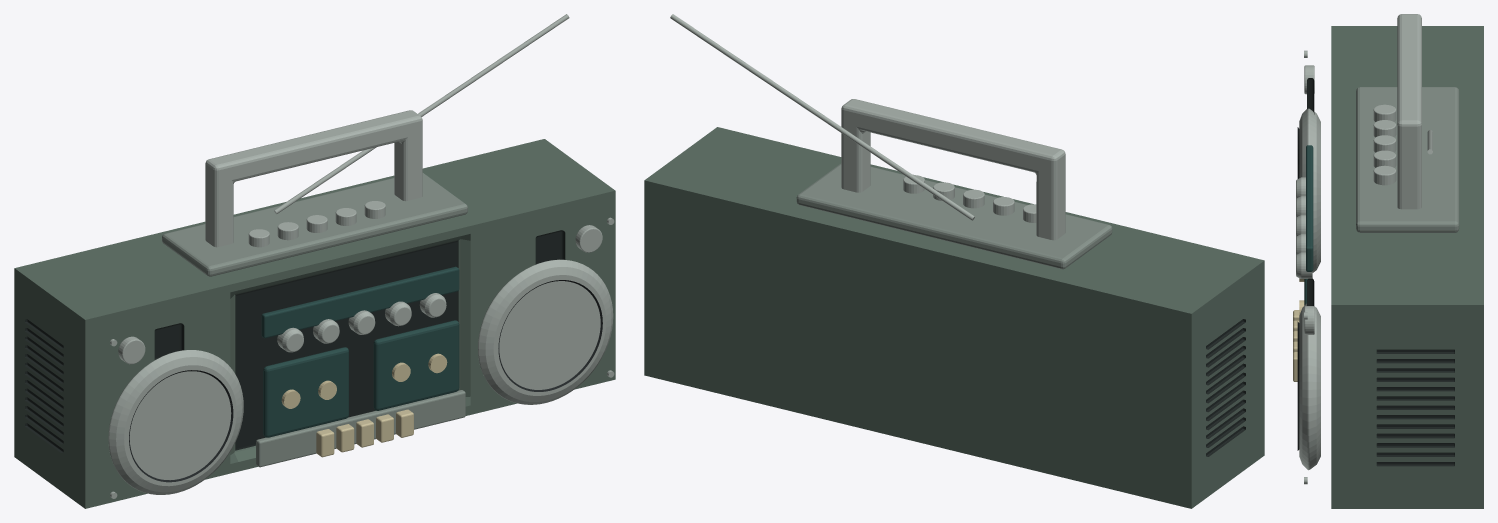
The model's file is heldout_boombox.glb.
3 renders of one model, left to right at view 1: azimuth 30°, elevation 25°; view 2: azimuth 150°, elevation 25°; view 3: azimuth 270°, elevation 25°, orthographic. The views are drawn at different scales.
Parts seen in each view (by area): view 1: Main integrated chassis, Speaker rim R, Speaker rim L, Top inset, Connected carry handle, Cassette right, Cassette left, Tuner display, Lower control rail, Side vent array L, Telescoping antenna, Meter grille L (+3 smaller); view 2: Main integrated chassis, Top inset, Connected carry handle, Side vent array L, Telescoping antenna; view 3: Main integrated chassis, Top inset, Side vent array R, Connected carry handle, Speaker rim R, Speaker rim L, Tuner display, Top dial 5, Speaker cone R, Top dial 2, Top dial 3, Top dial 4 (+4 smaller).
Boxes of the visible parts, <box> form: Main integrated chassis: <box>14,139,615,508</box>; Speaker rim R: <box>478,259,613,404</box>; Speaker rim L: <box>108,350,243,494</box>; Top inset: <box>162,173,467,276</box>; Connected carry handle: <box>205,110,422,247</box>; Cassette right: <box>373,320,459,410</box>; Cassette left: <box>263,347,348,437</box>; Tuner display: <box>261,266,459,338</box>; Lower control rail: <box>256,390,465,467</box>; Side vent array L: <box>25,319,63,452</box>; Telescoping antenna: <box>274,14,569,214</box>; Meter grille L: <box>154,323,184,359</box>; Main integrated chassis: <box>644,127,1264,508</box>; Top inset: <box>796,163,1112,269</box>; Connected carry handle: <box>841,99,1065,240</box>; Side vent array L: <box>1206,319,1245,456</box>; Telescoping antenna: <box>670,14,974,220</box>; Main integrated chassis: <box>1331,26,1483,508</box>; Top inset: <box>1356,87,1459,232</box>; Side vent array R: <box>1376,349,1454,466</box>; Connected carry handle: <box>1397,14,1421,209</box>; Speaker rim R: <box>1299,303,1320,470</box>; Speaker rim L: <box>1299,108,1320,272</box>; Tuner display: <box>1306,145,1313,271</box>; Top dial 5: <box>1373,165,1396,185</box>; Speaker cone R: <box>1297,321,1299,450</box>; Top dial 2: <box>1373,120,1396,137</box>; Top dial 3: <box>1373,135,1396,152</box>; Top dial 4: <box>1373,150,1396,167</box>.
Bounding box in the file's own units: 6.48 × 3.83 × 1.85.
